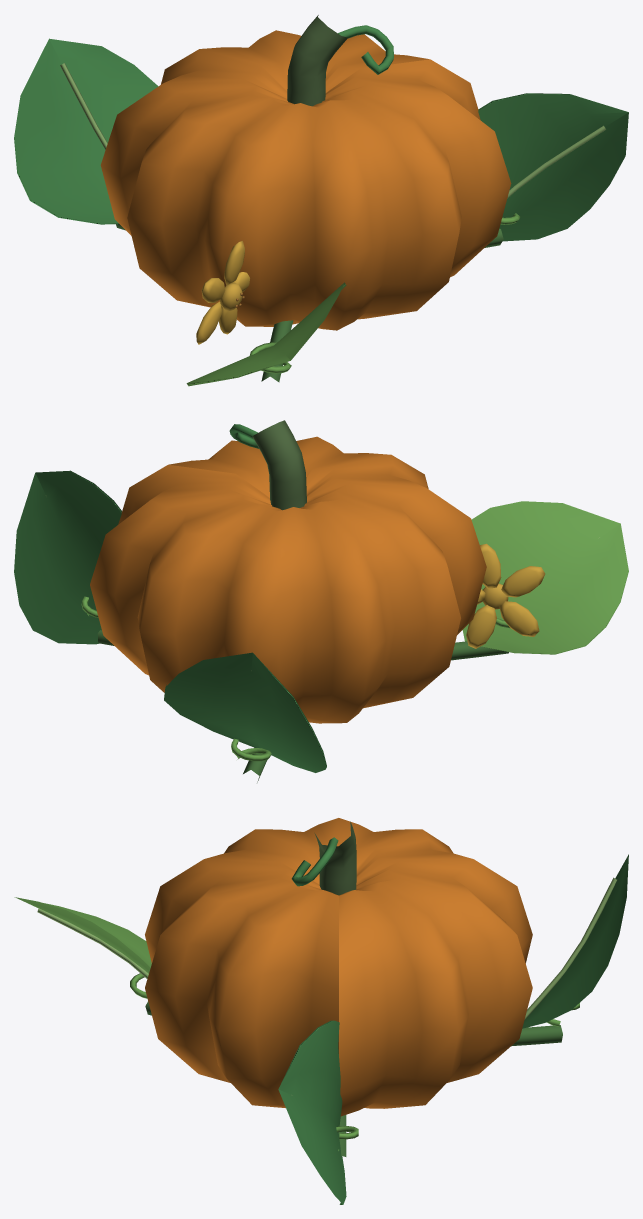
File: calabaza_3.glb
3 renders of one model, top to bottom at view 1: azimuth 30°, elevation 25°; view 2: azimuth 150°, elevation 25°; view 3: azimuth 270°, elevation 25°, orthographic. The views are drawn at different scales.
Visible parts, largest first — view 1: calabaza_3_guias_0; view 2: calabaza_3_guias_0; view 3: calabaza_3_guias_0.
Boxes of the visible parts, x1,y1,x2,y2 form: calabaza_3_guias_0: (14, 15, 628, 386); calabaza_3_guias_0: (14, 420, 628, 782); calabaza_3_guias_0: (14, 818, 628, 1204).
Bounding box in the file's own units: 0.7667 × 0.3925 × 0.7928.
